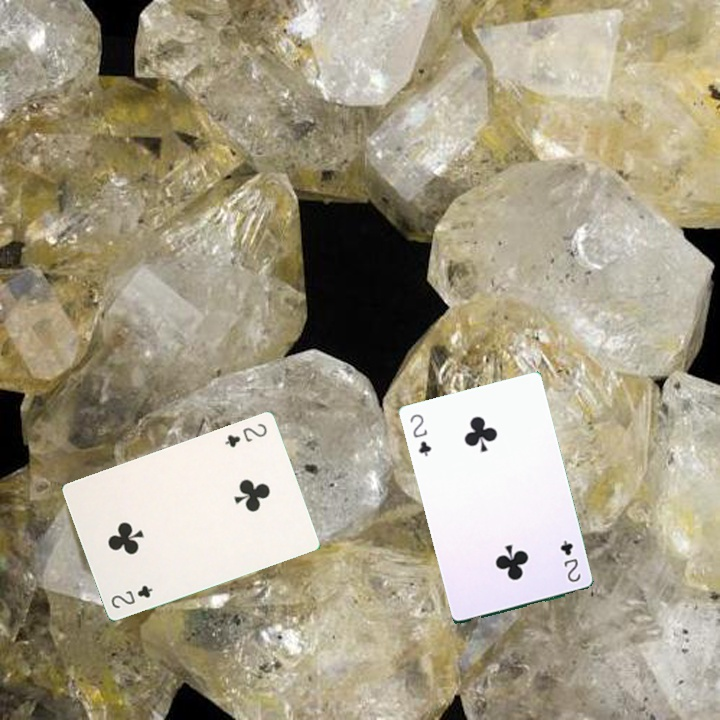2c: (221, 419, 270, 450), (107, 581, 155, 611), (406, 410, 434, 459), (556, 536, 583, 585)
